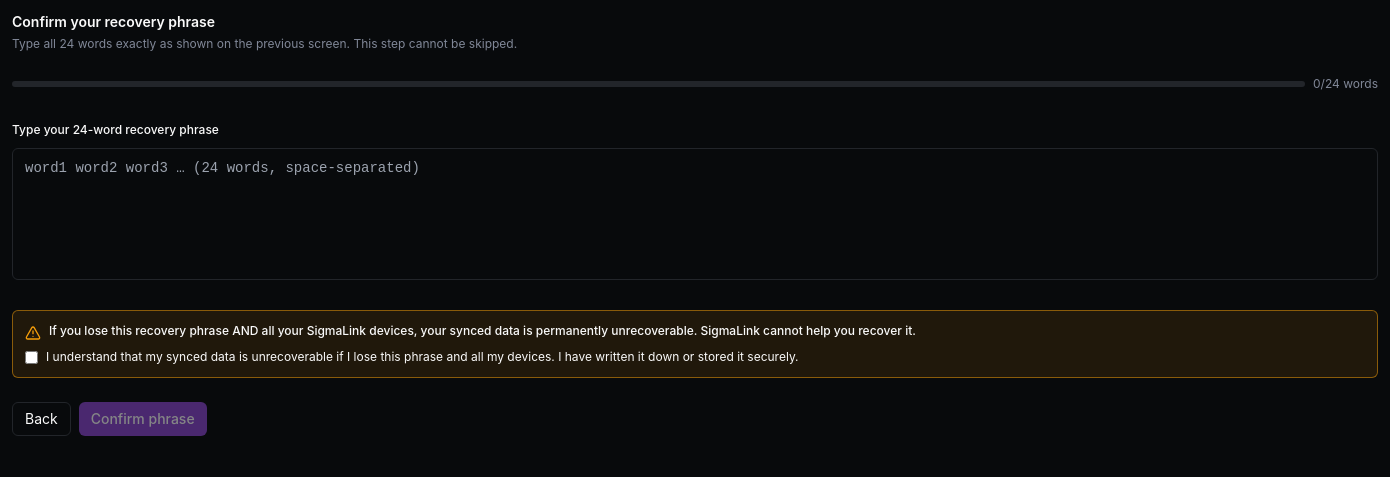
Test: MnemonicConfirm › match status is shown when typing begins
In the text box with test id "mnemonic-input": (695, 214) [12,148,1378,280], type "abandon"
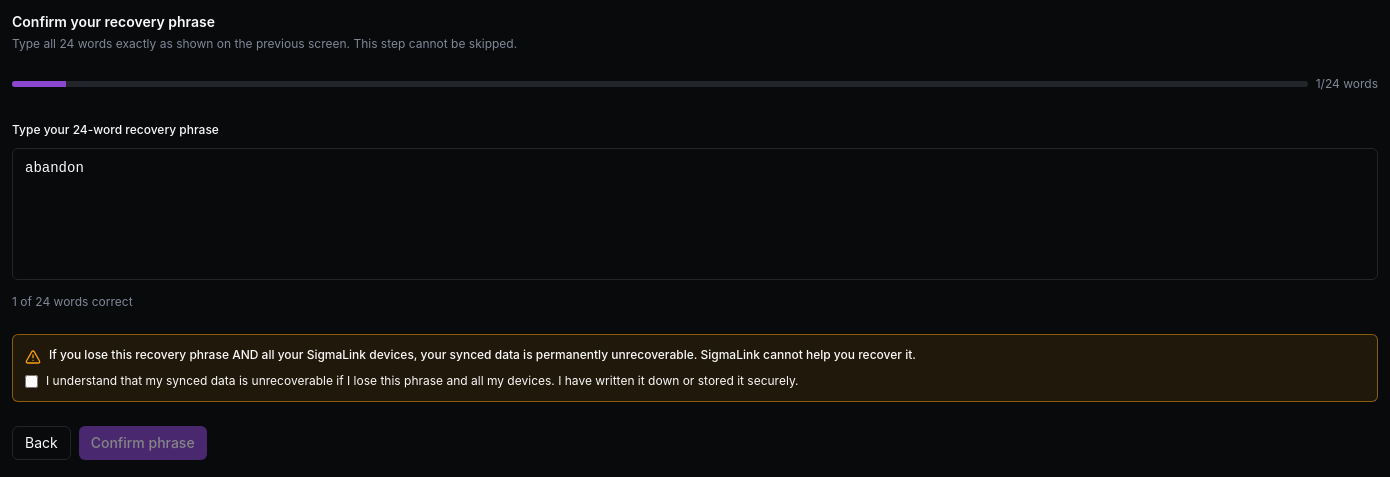
Expected: the element with test id "match-status" is shown, [12,294,133,309]
